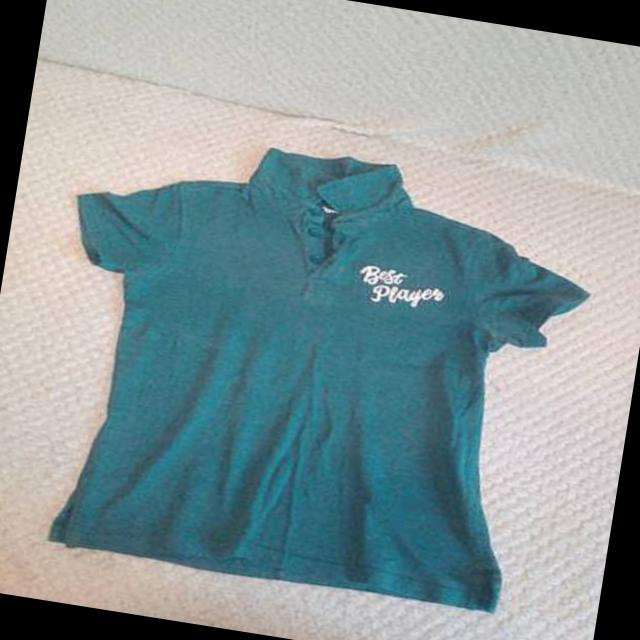T_SHIRT: (6, 100, 616, 631)
